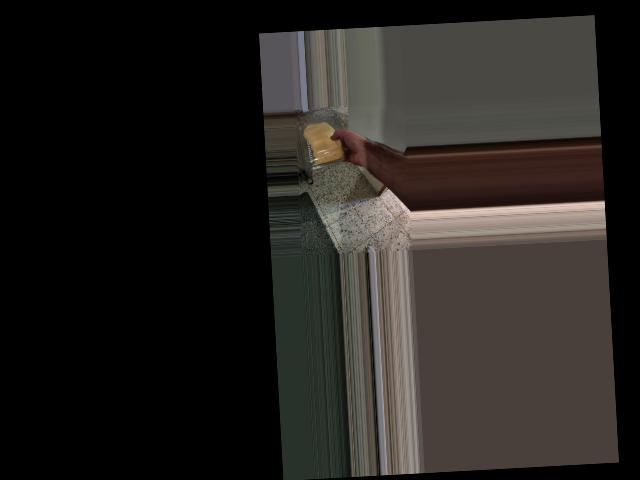cheese: (299, 118, 346, 169)
